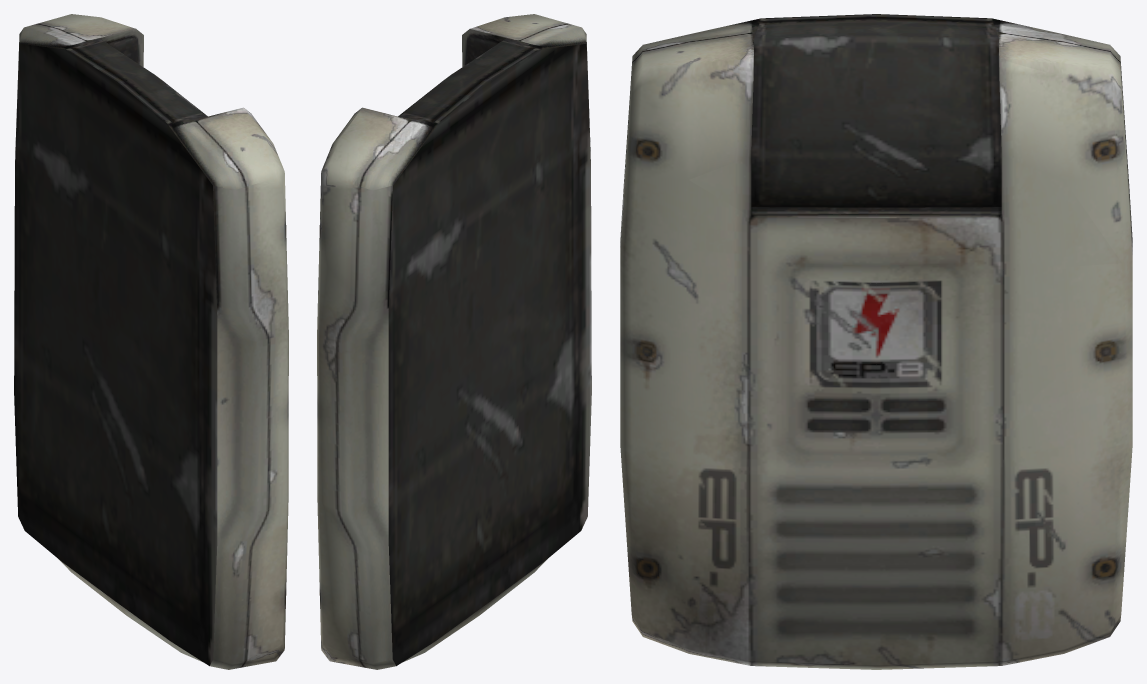
The model's file is BreakerDoor.FBX.
3 renders of one model, left to right at view 1: azimuth 30°, elevation 25°; view 2: azimuth 150°, elevation 25°; view 3: azimuth 270°, elevation 25°, orthographic. The views are drawn at different scales.
Parts seen in each view (by area): view 1: BreakerDoor; view 2: BreakerDoor; view 3: BreakerDoor.
Part boxes in pixels (x1,y1,x2,y2): BreakerDoor: (14, 14, 288, 669); BreakerDoor: (317, 14, 591, 669); BreakerDoor: (620, 14, 1132, 669).
Size of the model in its own units: 0.1117 by 0.6782 by 0.5118.
